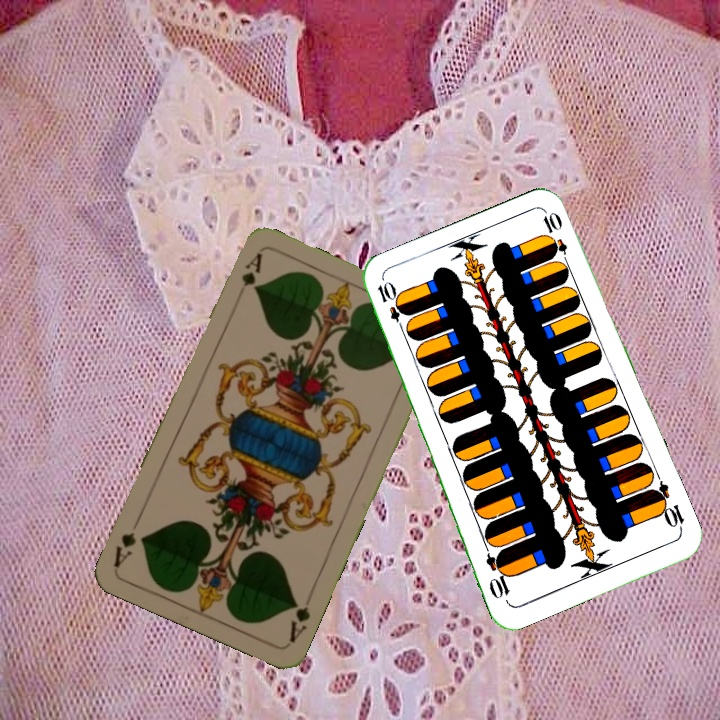E10: (647, 477, 687, 534), (373, 279, 407, 335)
GA: (284, 597, 313, 646), (237, 249, 265, 289)
